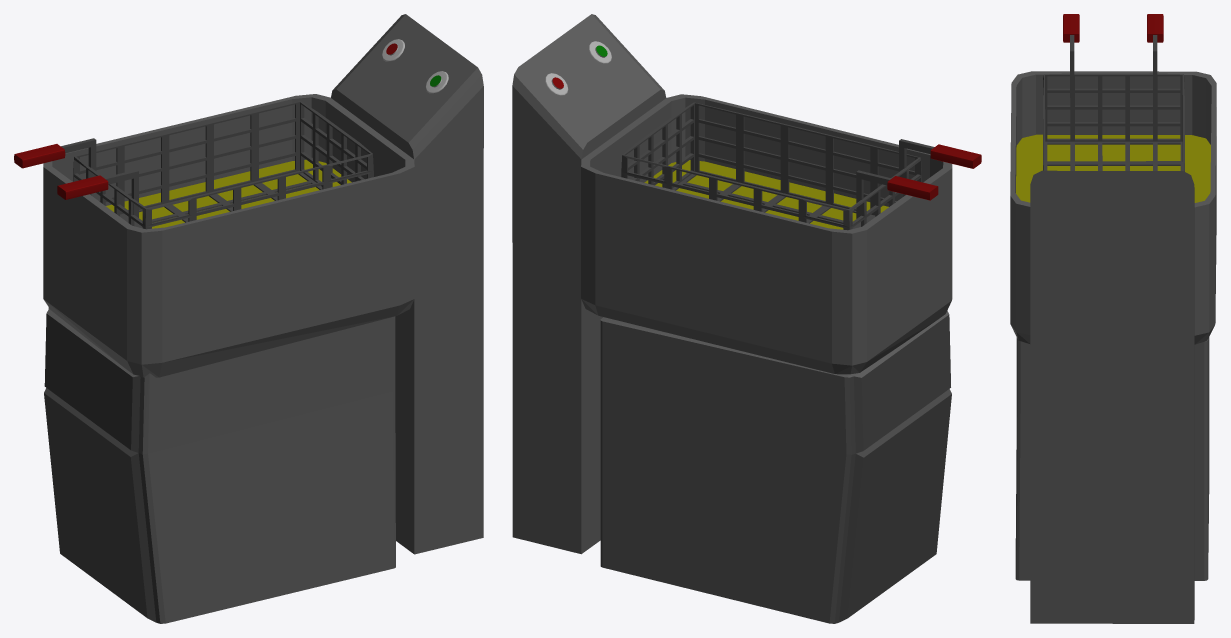
The model's file is SM_Freidora_01.fbx.
3 renders of one model, left to right at view 1: azimuth 30°, elevation 25°; view 2: azimuth 150°, elevation 25°; view 3: azimuth 270°, elevation 25°, orthographic. The views are drawn at different scales.
Parts seen in each view (by area): view 1: pCube1, canasta, pCube6, pCube3; view 2: pCube1, canasta, pCube3, pCube6; view 3: pCube1, canasta, pCube6, pCube3, pCube4, pCube5.
Part boxes in pixels (x1,y1,x2,y2): pCube1: [43, 14, 483, 623]; canasta: [73, 101, 373, 229]; pCube6: [57, 175, 108, 199]; pCube3: [14, 144, 65, 168]; pCube1: [512, 14, 952, 623]; canasta: [621, 102, 921, 230]; pCube3: [887, 176, 938, 200]; pCube6: [930, 144, 981, 168]; pCube1: [1010, 71, 1216, 623]; canasta: [1043, 73, 1184, 171]; pCube6: [1063, 14, 1079, 42]; pCube3: [1147, 14, 1163, 42]; pCube4: [1153, 35, 1157, 97]; pCube5: [1070, 35, 1074, 97].
Size of the model in its own units: 5.67 by 6.31 by 2.6.
